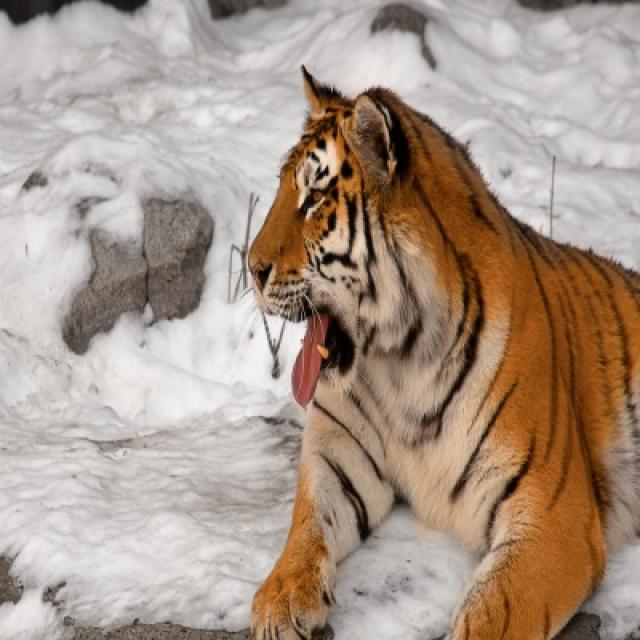Tiger: (250, 69, 638, 638)
